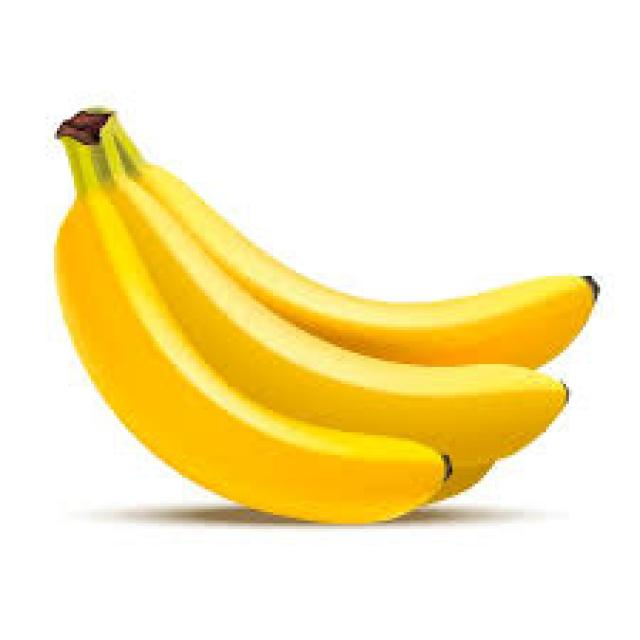Banana: (58, 180, 442, 522), (114, 179, 565, 463), (139, 158, 598, 367)
